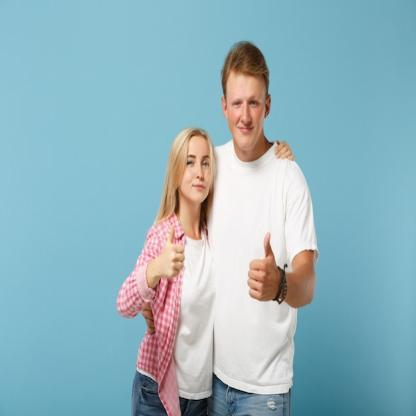thumb_up: (244, 230, 280, 308), (156, 222, 187, 282)
